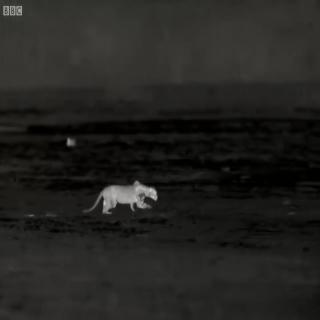Leopard: (84, 152, 187, 258)
